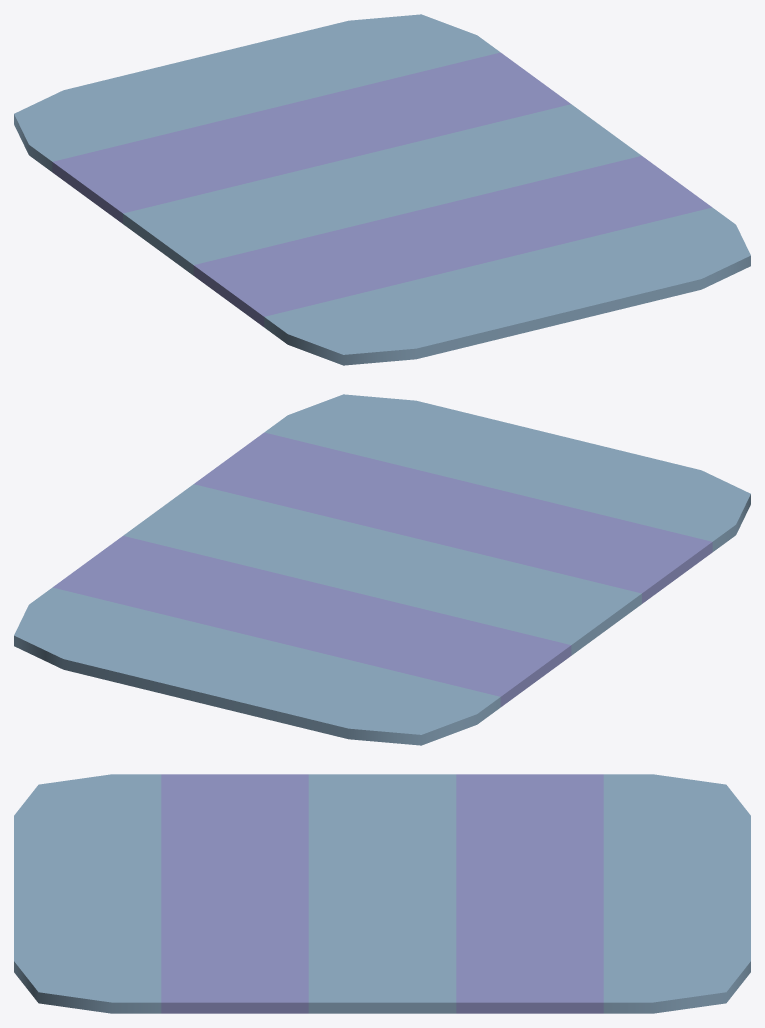
File: carpet-rectangle-stripes-small.glb
3 renders of one model, top to bottom at view 1: azimuth 30°, elevation 25°; view 2: azimuth 150°, elevation 25°; view 3: azimuth 270°, elevation 25°, orthographic. The views are drawn at different scales.
Visible parts, largest first — view 1: carpet-rectangle-stripes-small; view 2: carpet-rectangle-stripes-small; view 3: carpet-rectangle-stripes-small.
Boxes of the visible parts, box(x1,y1,x2,y2) form: carpet-rectangle-stripes-small: box(14, 14, 750, 365); carpet-rectangle-stripes-small: box(14, 394, 750, 745); carpet-rectangle-stripes-small: box(14, 774, 750, 1013).
Bounding box in the file's own units: 1.1 × 0.025 × 1.5.
